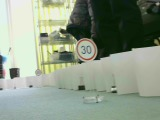speed_30: (75, 38, 97, 61)
